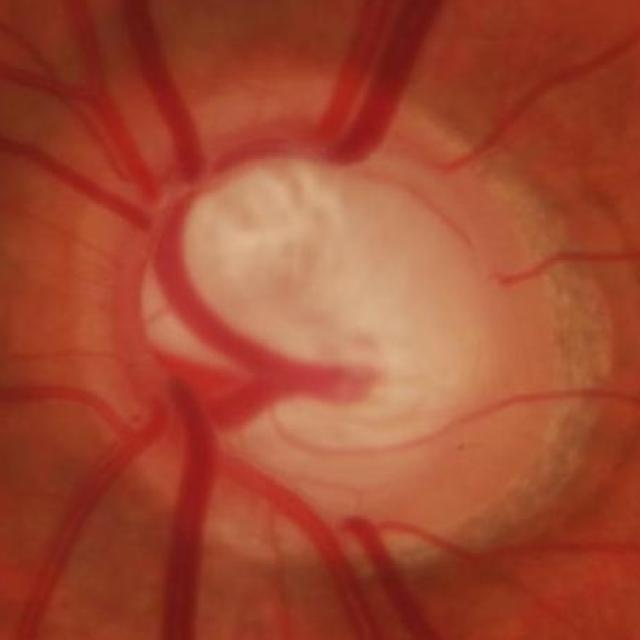OC: (148, 168, 494, 471)
OD: (51, 69, 580, 566)
